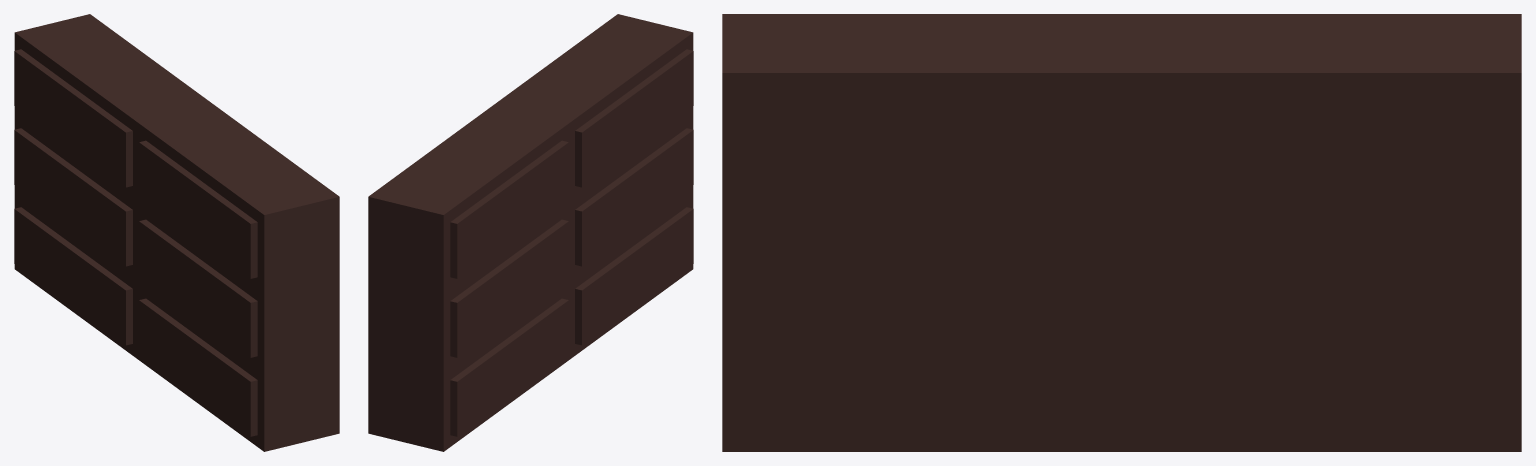
Rendered from gamedresser.fbx.
The picture shows the model from 3 angles, left to right: view 1: azimuth 30°, elevation 25°; view 2: azimuth 150°, elevation 25°; view 3: azimuth 270°, elevation 25°; orthographic projection. The views are drawn at different scales.
Parts seen in each view (by area): view 1: Cube; view 2: Cube; view 3: Cube.
Boxes of the visible parts, x1=… form: Cube: x1=14, y1=14, x2=339, y2=451; Cube: x1=368, y1=14, x2=693, y2=451; Cube: x1=722, y1=14, x2=1521, y2=451.
Bounding box in the file's own units: 219 × 600 × 1146.
